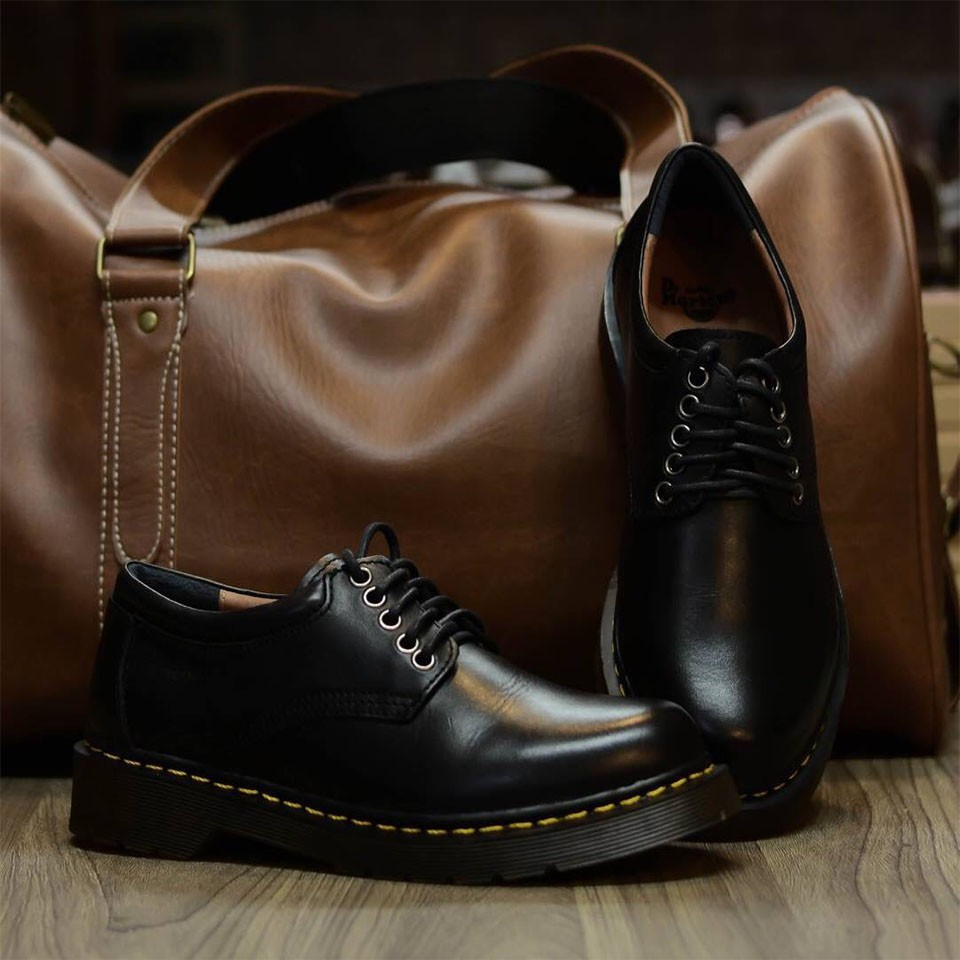derby: (62, 545, 732, 884), (595, 145, 850, 828)
